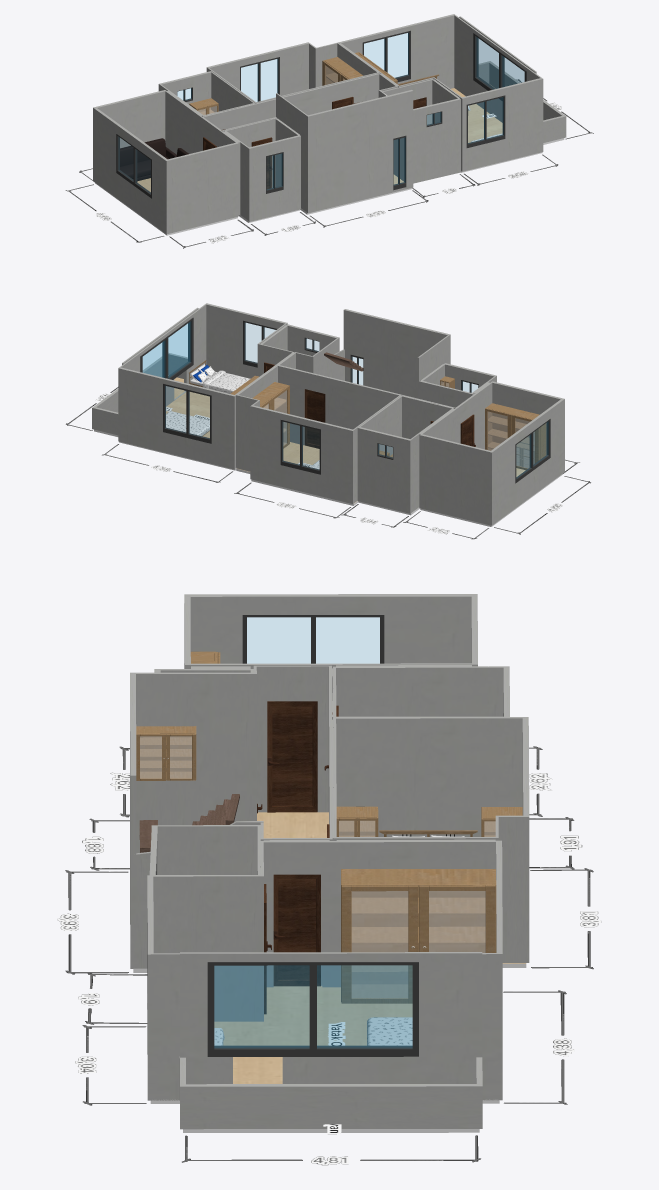
The model's file is 1-kat.glb.
The picture shows the model from 3 angles, top to bottom: view 1: azimuth 30°, elevation 25°; view 2: azimuth 150°, elevation 25°; view 3: azimuth 270°, elevation 25°; orthographic projection. The views are drawn at different scales.
Parts seen in each view (by area): view 1: Duvar (×25), wall_022 (×8), styledPlanOverlay, Oda (×2), sofa, storage; view 2: Duvar (×25), wall_022 (×6), storage (×2), Oda (×2), bed (×2), door_016 (×2), styledPlanOverlay; view 3: Duvar (×16), wall_022 (×3), storage (×3), Oda (×3), door_016 (×2), styledPlanOverlay, bed.
Part boxes in pixels (bbox=[...]): Duvar (×25): bbox=[93, 14, 566, 233]; wall_022 (×8): bbox=[116, 30, 526, 198]; styledPlanOverlay: bbox=[65, 79, 593, 248]; Oda (×2): bbox=[95, 88, 542, 235]; sofa: bbox=[120, 138, 176, 181]; storage: bbox=[322, 57, 362, 85]; Duvar (×25): bbox=[92, 303, 564, 525]; wall_022 (×6): bbox=[140, 317, 550, 483]; storage (×2): bbox=[252, 382, 539, 470]; Oda (×2): bbox=[119, 392, 358, 505]; bed (×2): bbox=[166, 360, 250, 436]; door_016 (×2): bbox=[304, 389, 475, 448]; styledPlanOverlay: bbox=[66, 387, 590, 539]; Duvar (×16): bbox=[130, 594, 529, 1129]; wall_022 (×3): bbox=[207, 615, 418, 1056]; storage (×3): bbox=[136, 726, 496, 1003]; Oda (×3): bbox=[133, 812, 499, 1132]; door_016 (×2): bbox=[267, 701, 320, 986]; styledPlanOverlay: bbox=[57, 746, 601, 1165]; bed: bbox=[367, 1017, 412, 1045].
Size of what is drawn, in the model's own units: 0.9232 by 0.181 by 0.4912.
23 materials, 18 textured.
